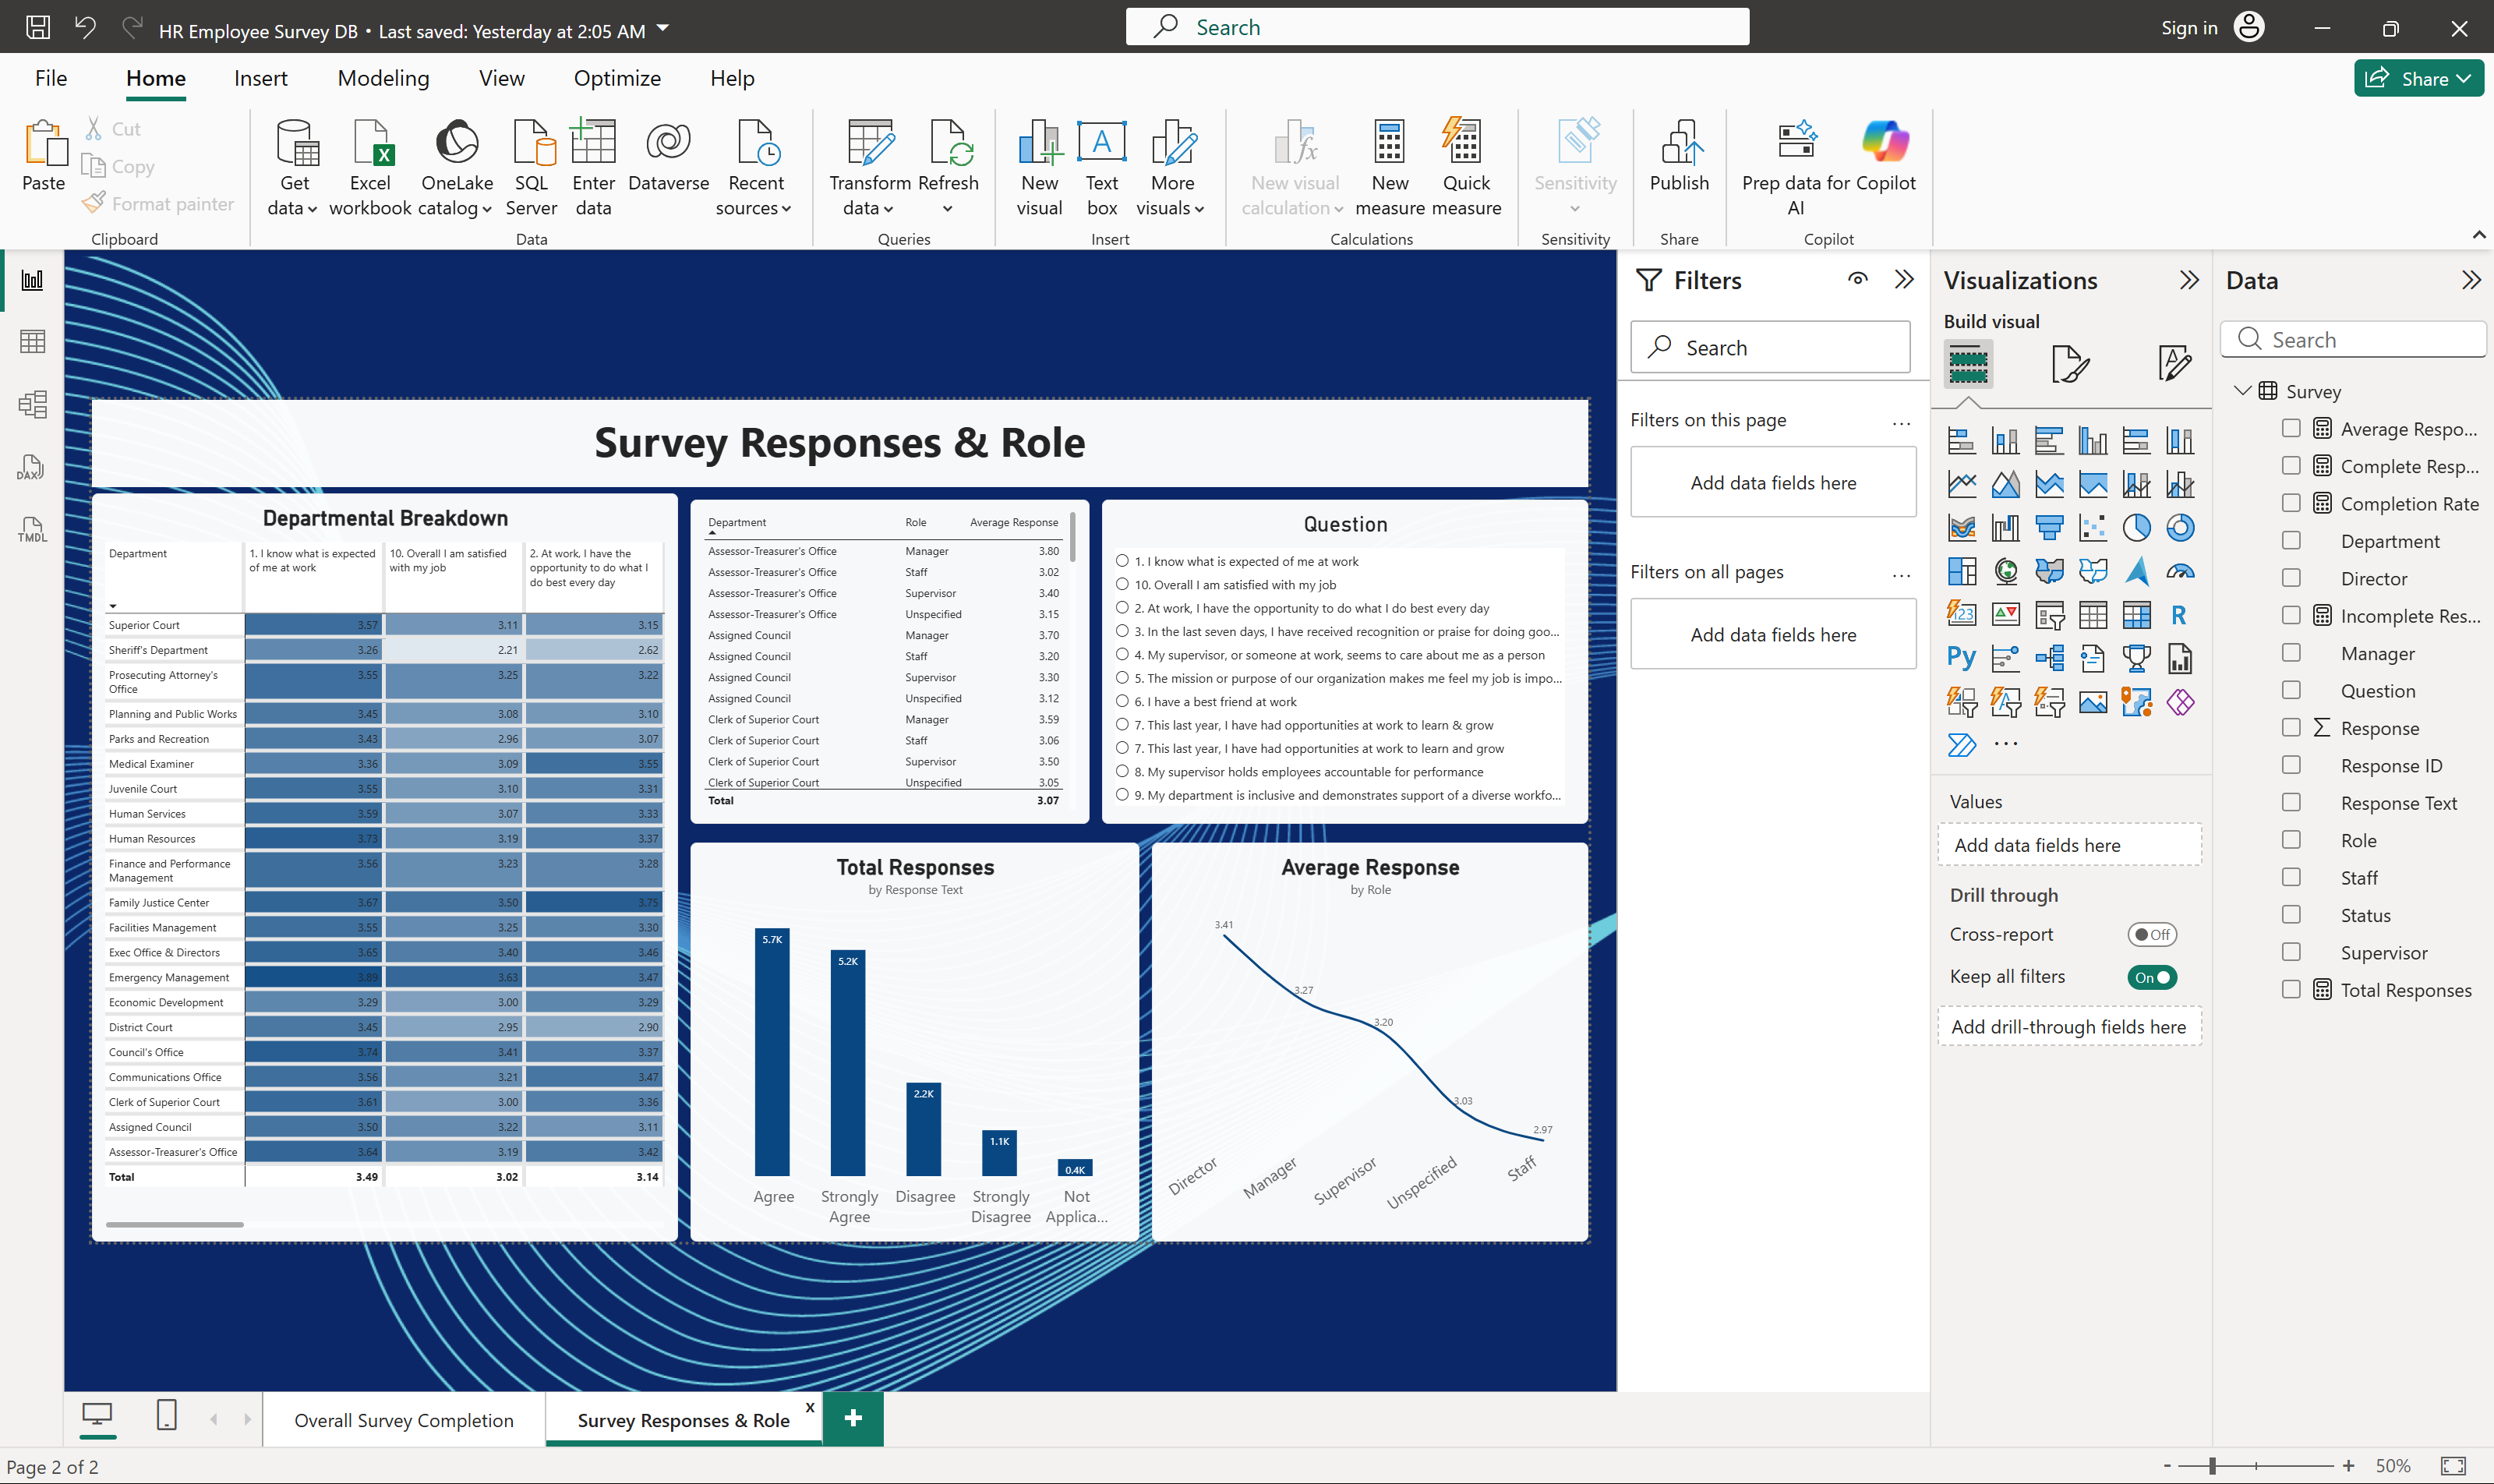

Layout of this report page (visuals, bound fields, positions):
{"tool":"powerbi","page":{"name":"Survey Responses & Insights","canvas":[1920,1080],"ordinal":1},"visuals":[{"type":"columnChart","fields":{"Category":["Survey.Response Text"],"Y":["Survey.Total Responses"]},"box":[768,568,576,512],"z":0},{"type":"lineChart","fields":{"Category":["Survey.Role"],"Y":["Survey.Average Response"]},"box":[1360,568,560,512],"z":1000},{"type":"pivotTable","title":"Departmental Breakdown","fields":{"Rows":["Survey.Department"],"Columns":["Survey.Question"],"Values":["Survey.Average Response"]},"box":[0,120,752,960],"z":2000},{"type":"listSlicer","fields":{"Values":["Survey.Question"]},"box":[1296,128,624,416],"z":3000},{"type":"textbox","box":[0,0,1920,112],"z":4000},{"type":"tableEx","fields":{"Values":["Survey.Department","Survey.Role","Survey.Total Responses"]},"box":[768,128,512,416],"z":5000}]}

Visuals, with their boxes on the page's 1920x1080 design canvas (x1, y1, x2, y2). These are canvas units, not pixel positions in the 2494x1484 screenshot, which may show the page scaled, cropped or inside an application window:
columnChart - Survey.Response Text x Survey.Total Responses: [left=768, top=568, right=1344, bottom=1080]
lineChart - Survey.Role x Survey.Average Response: [left=1360, top=568, right=1920, bottom=1080]
"Departmental Breakdown" pivotTable: [left=0, top=120, right=752, bottom=1080]
listSlicer - Survey.Question: [left=1296, top=128, right=1920, bottom=544]
textbox: [left=0, top=0, right=1920, bottom=112]
tableEx - Survey.Department x Survey.Role: [left=768, top=128, right=1280, bottom=544]
